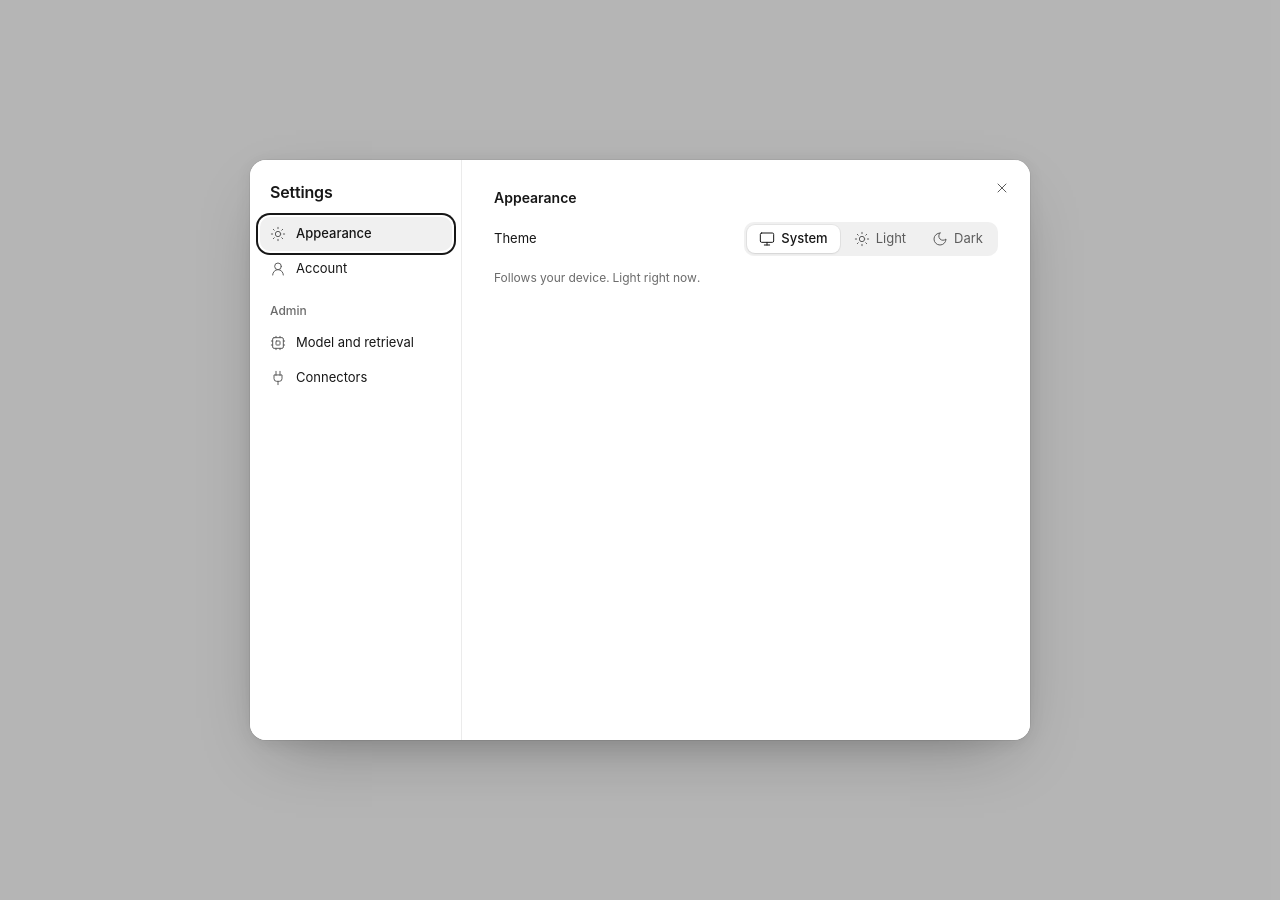
SettingsHost › shows an admin the total and the live config
Click the button "Account": (356, 269) x1=260 y1=252 x2=452 y2=286
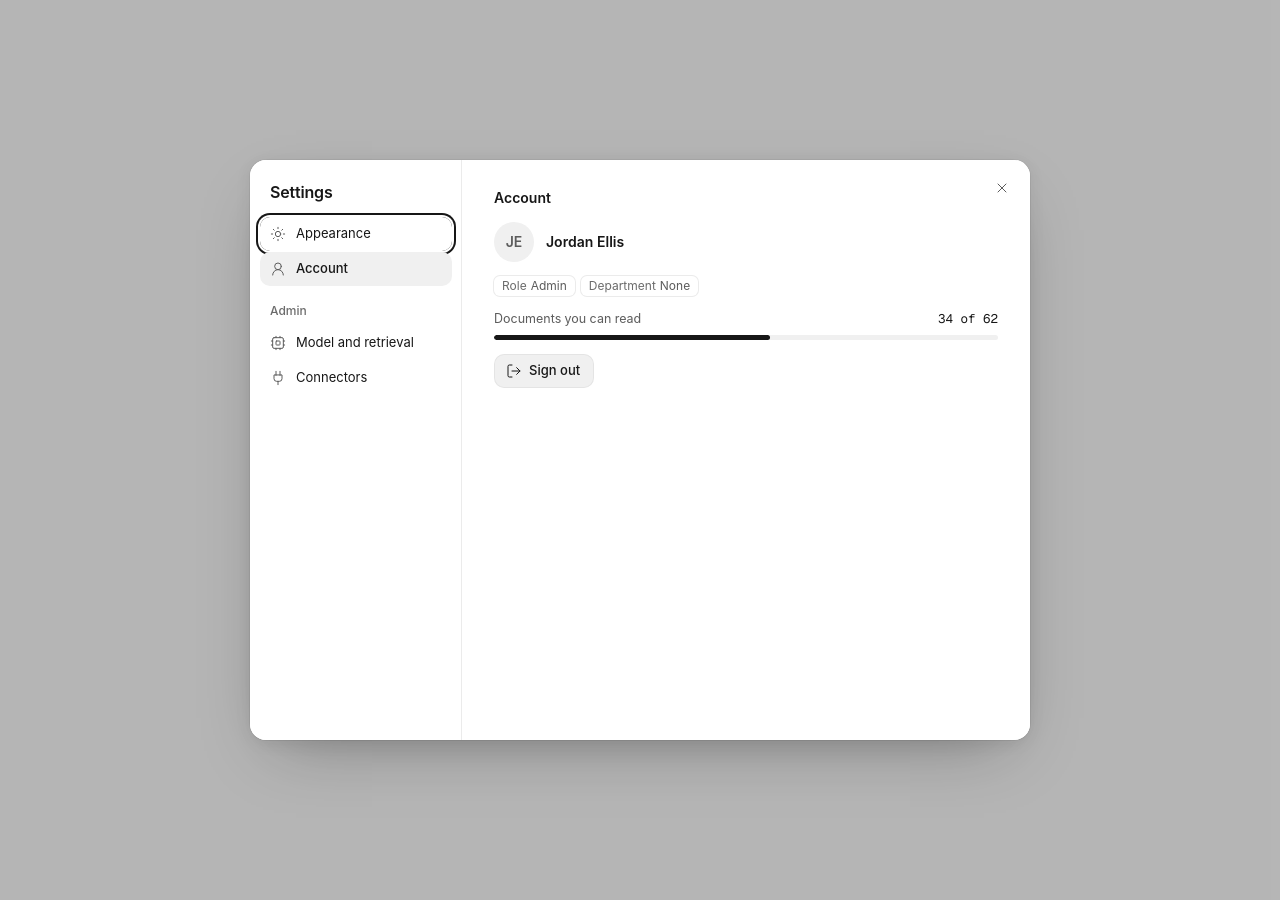
Expected: the text "34 of 62" is shown, x1=938 y1=310 x2=998 y2=329
Click the button "Model and retrieval": (356, 343) x1=260 y1=326 x2=452 y2=360
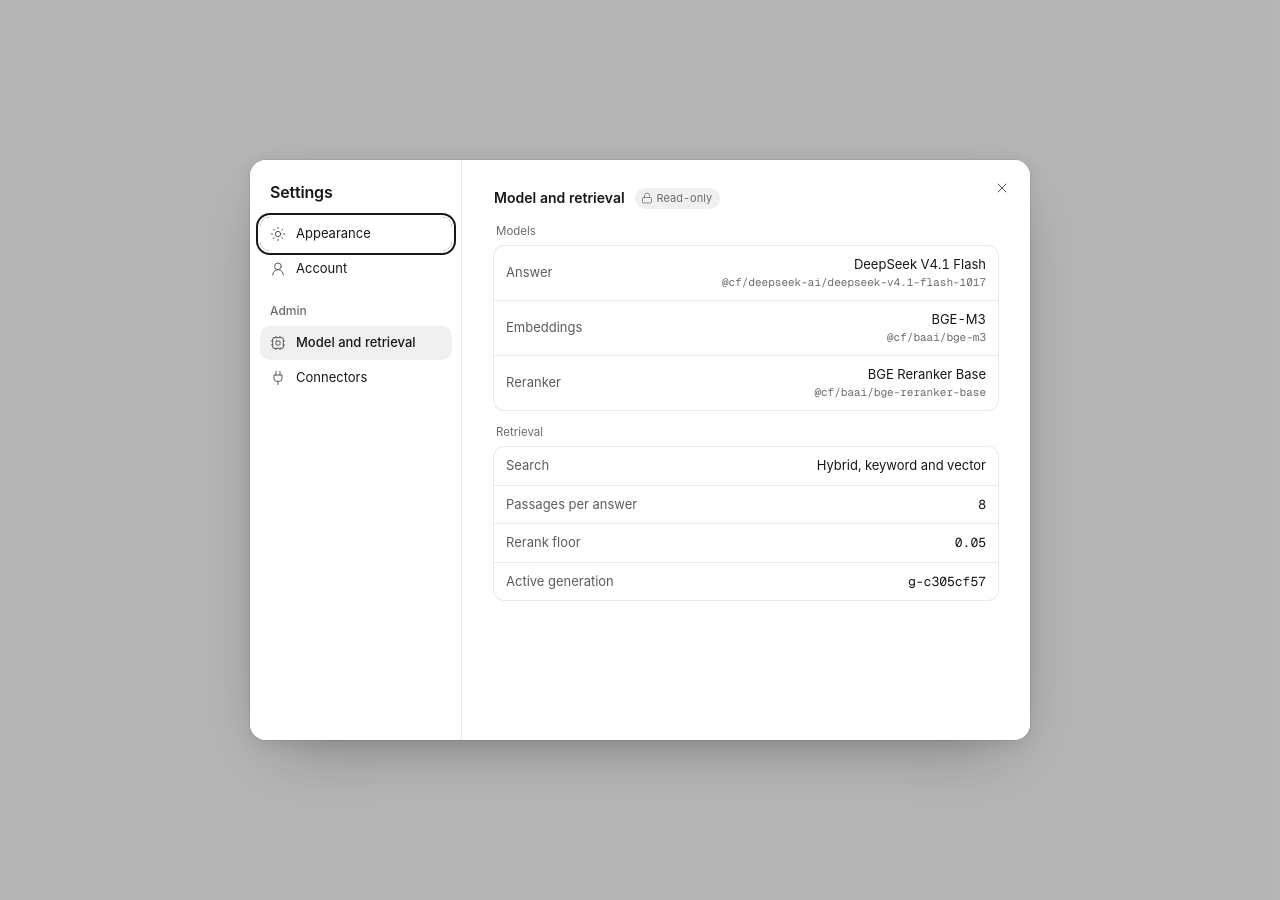
Expected: the text "@cf/baai/bge-m3" is shown, x1=887 y1=329 x2=986 y2=346
Expected: the text "g-c305cf57" is shown, x1=908 y1=572 x2=986 y2=591
